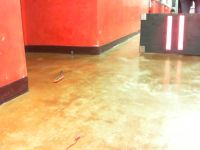switch: (177, 15, 185, 50), (165, 16, 172, 50)
